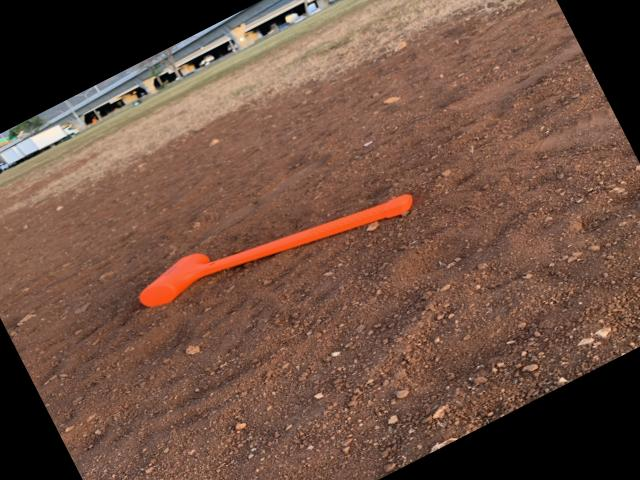hammer: (130, 152, 416, 339)
